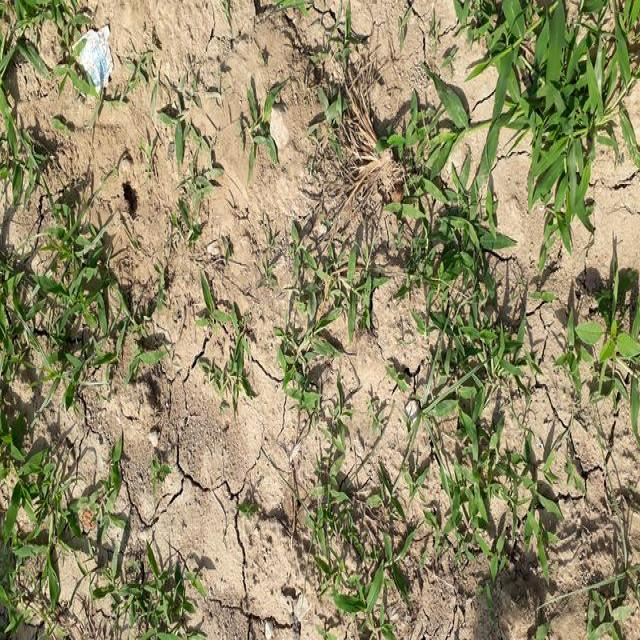weed: (0, 235, 154, 640), (421, 275, 560, 618), (455, 1, 640, 240), (0, 0, 93, 181)
